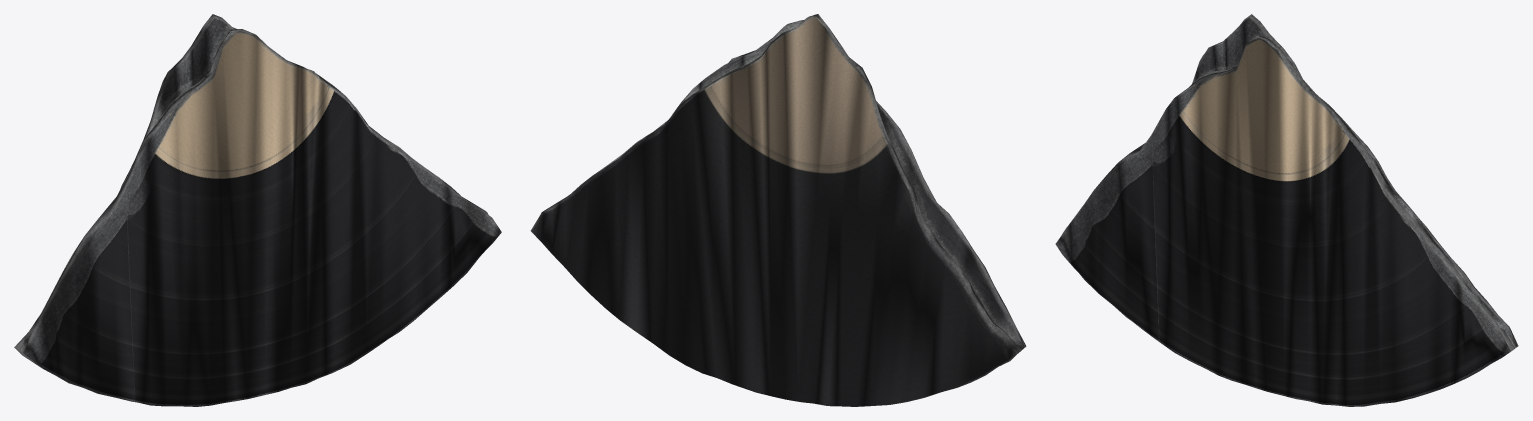
File: record1.fbx
3 renders of one model, left to right at view 1: azimuth 30°, elevation 25°; view 2: azimuth 150°, elevation 25°; view 3: azimuth 330°, elevation 25°, orthographic. The views are drawn at different scales.
Parts seen in each view (by area): view 1: mesh_node; view 2: mesh_node; view 3: mesh_node.
Boxes of the visible parts, x1,y1,x2,y2 form: mesh_node: (14,14,501,406); mesh_node: (530,14,1026,406); mesh_node: (1055,14,1518,406).
Size of the model in its own units: 100 by 76.95 by 4.06.
1 material, 1 textured.
